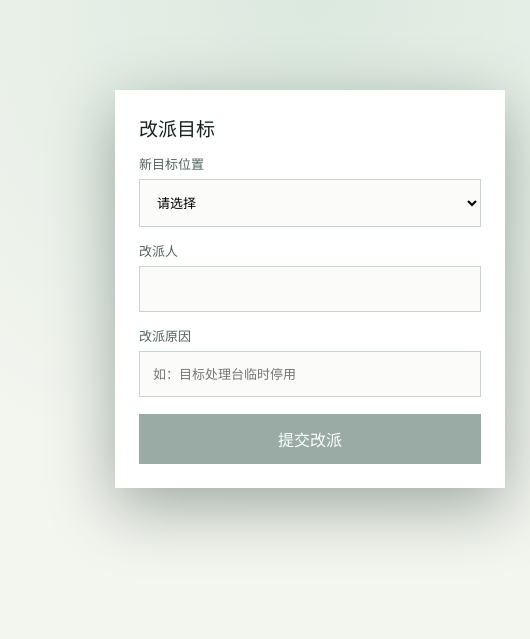
Test case: reroute form › keeps the operator, reason and chosen position when the submission fails
Select "交接窗" in the dropdown labelled "新目标位置" at (310, 203), box x1=139 y1=179 x2=481 y2=227
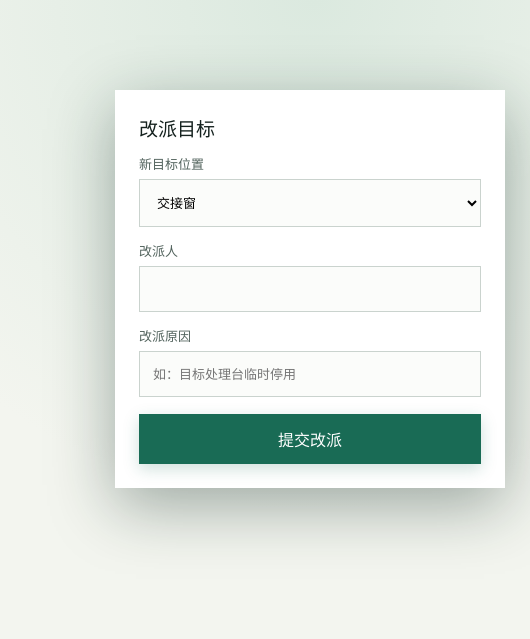
Type "alice" into the field labelled "改派人" at (310, 289), box x1=139 y1=266 x2=481 y2=312
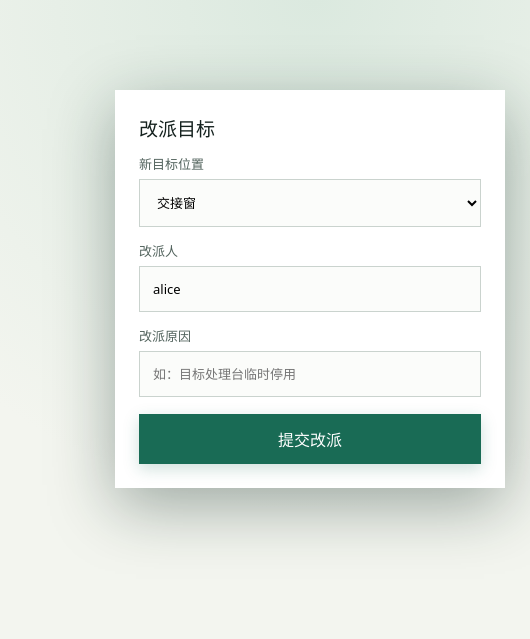
Type "处理台临时停用" into the field labelled "改派原因" at (310, 374), box x1=139 y1=351 x2=481 y2=397
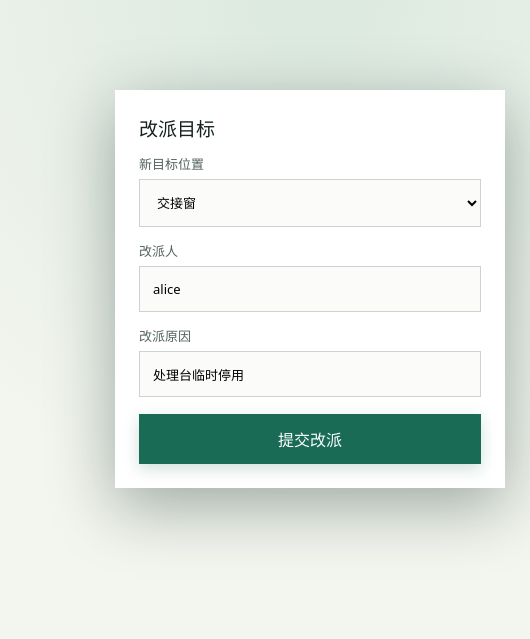
Click the button "提交改派" at (310, 439), box x1=139 y1=414 x2=481 y2=464
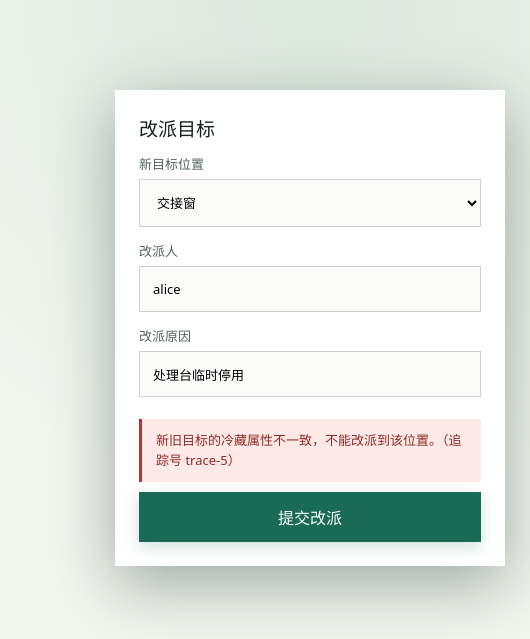
Check: the message shows "冷藏属性不一致", box x1=156 y1=431 x2=462 y2=468
